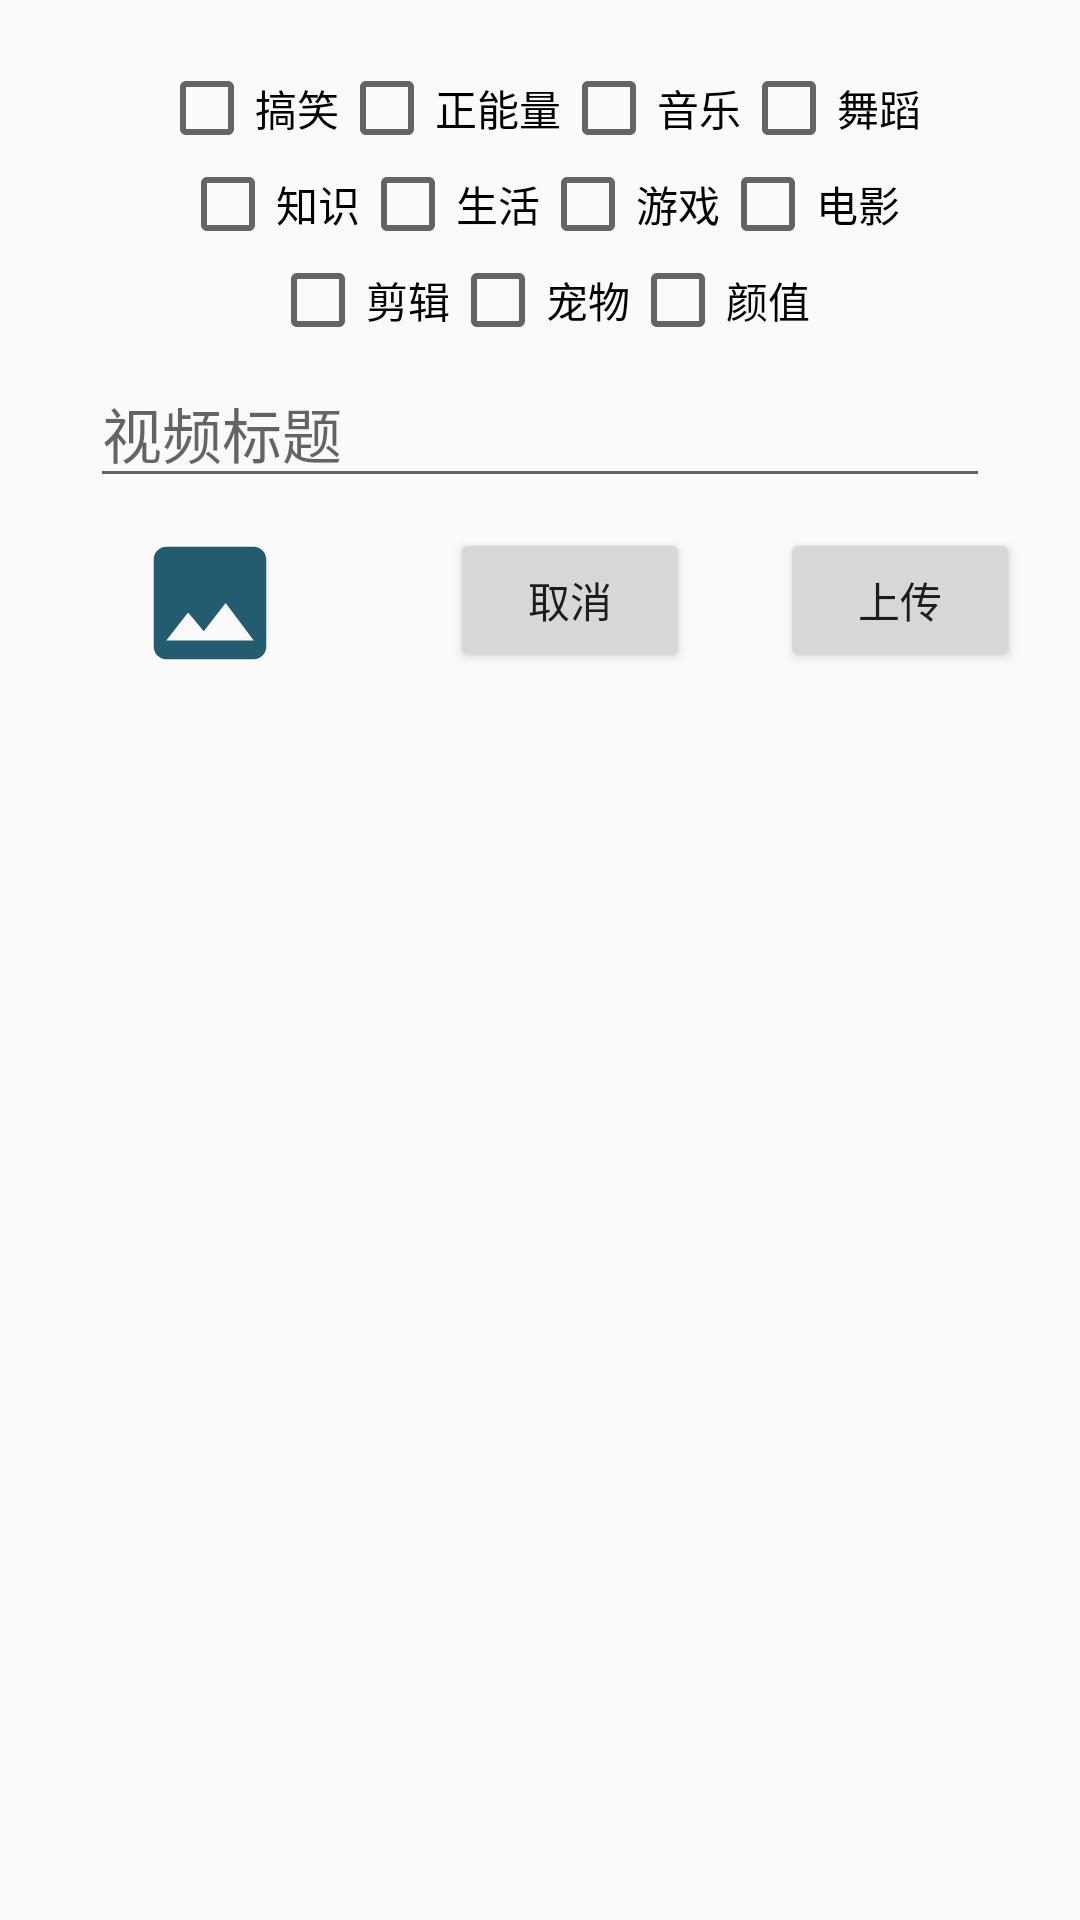

Screen size 1080w x 1920h. Icon name, then its center in pixels as (x,y):
photo: (210,603)
